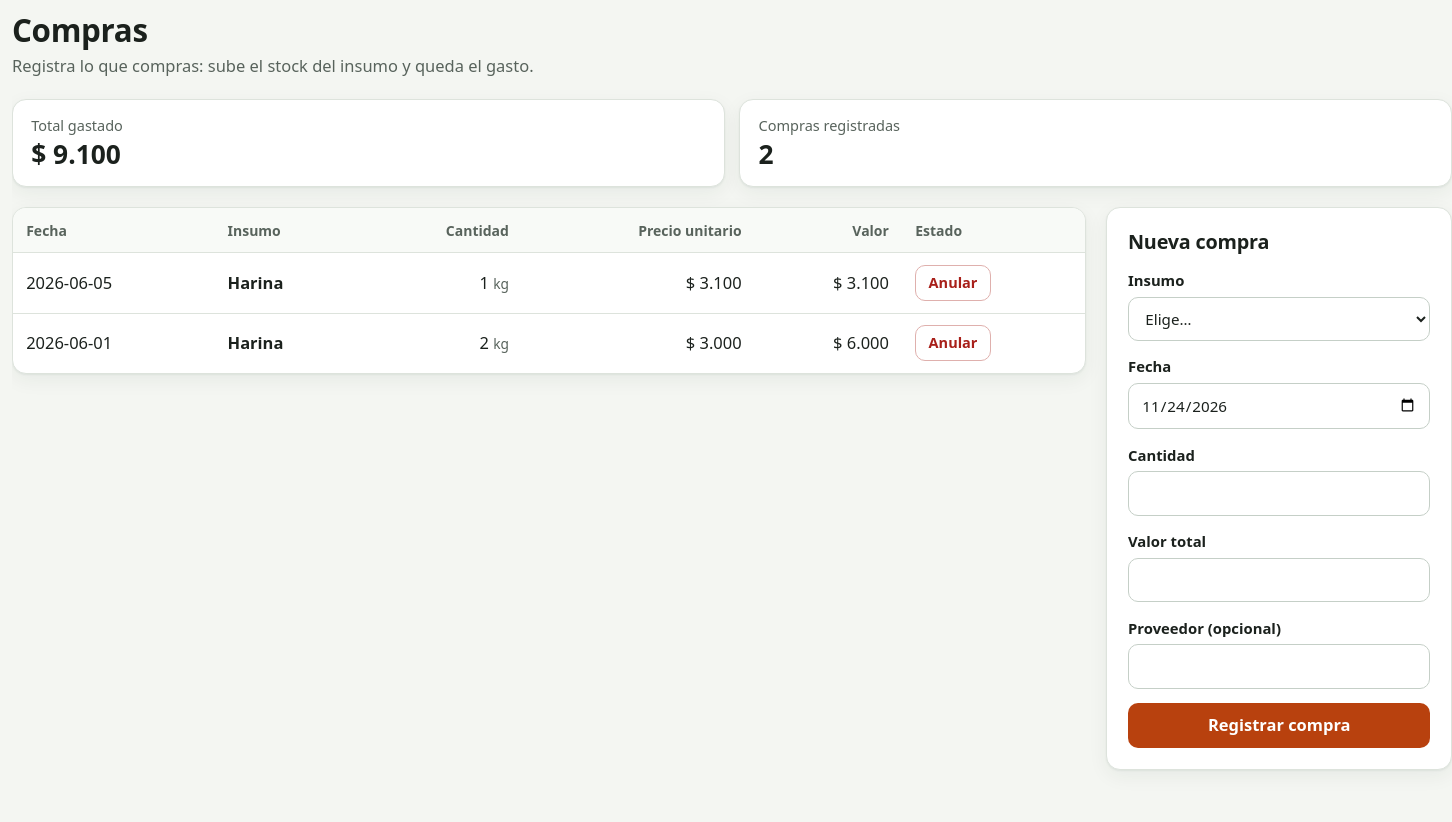
Test: HU-05 Compras (funcionales) › CA-5: si el usuario confirma, actualiza el precio
Select "Harina (kg)" in the dropdown labelled "Insumo" at [1279, 319], box [1128,297,1430,341]
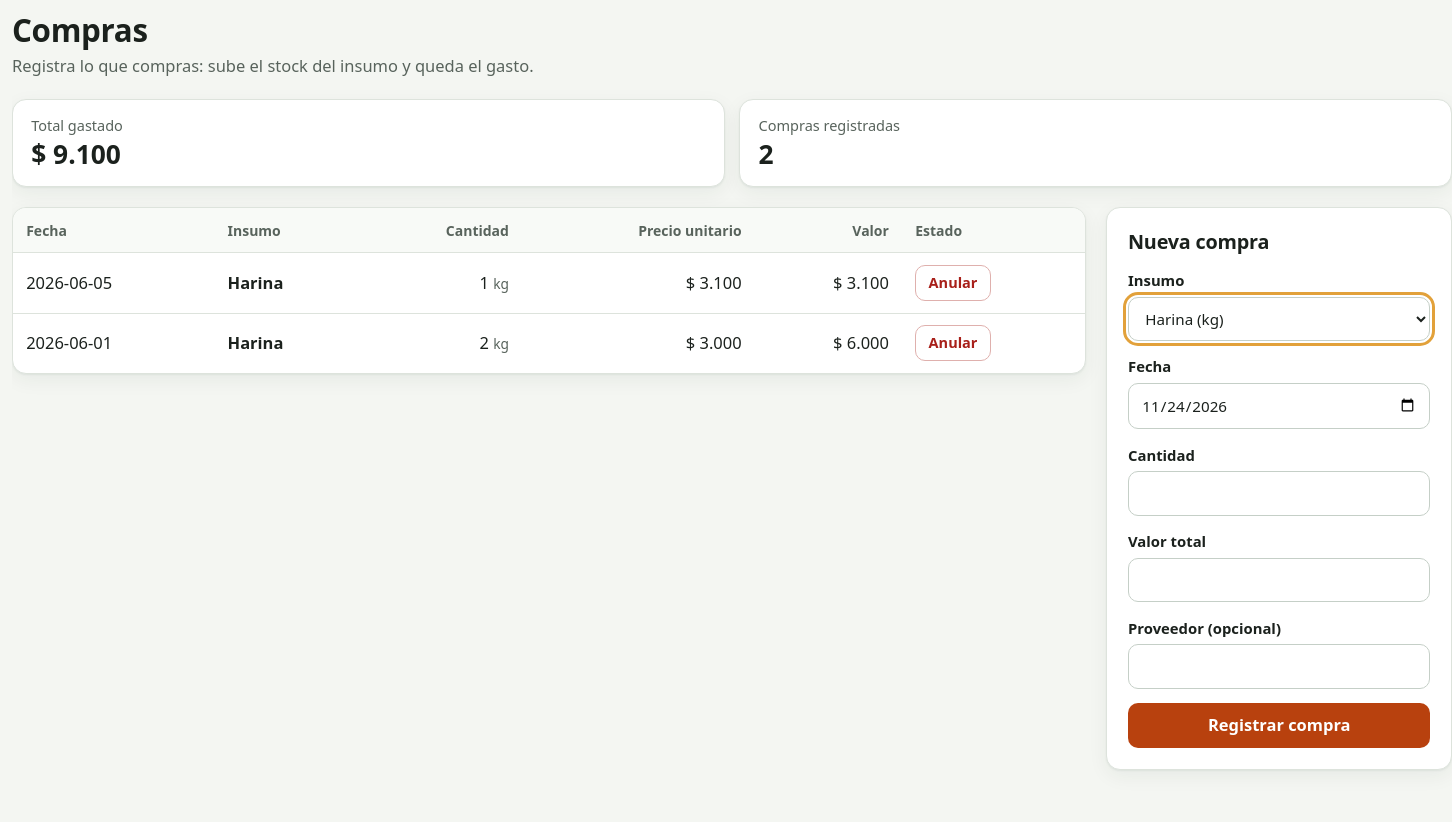
Type "10" into the number field labelled "Cantidad".
click(1279, 493); type("10")  # box [1128,471,1430,516]
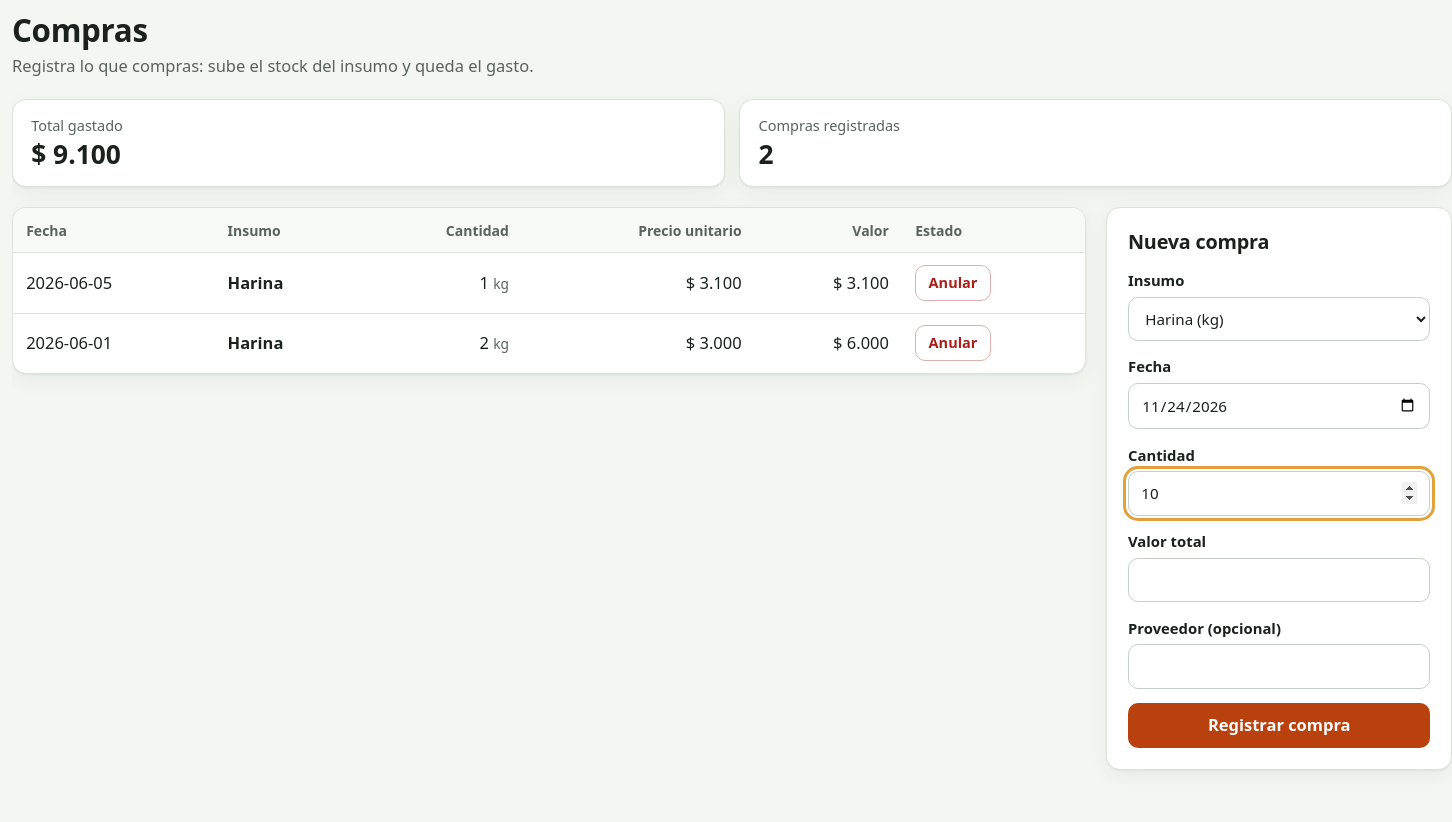
Type "32000" into the number field labelled "Valor total".
click(1279, 580); type("32000")  # box [1128,558,1430,602]
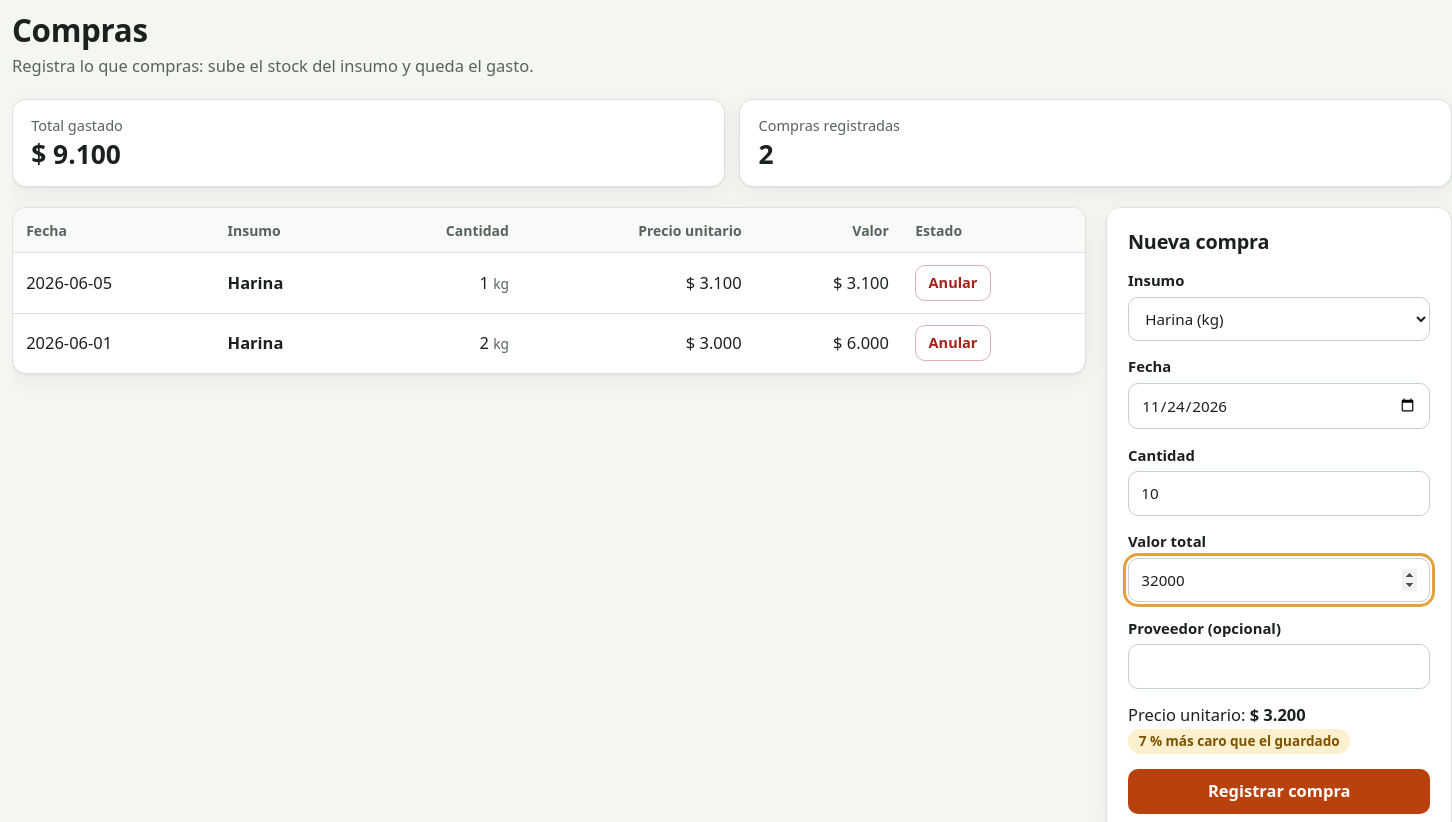
Click the button "Registrar compra".
click(1279, 791)  # box [1128,769,1430,814]
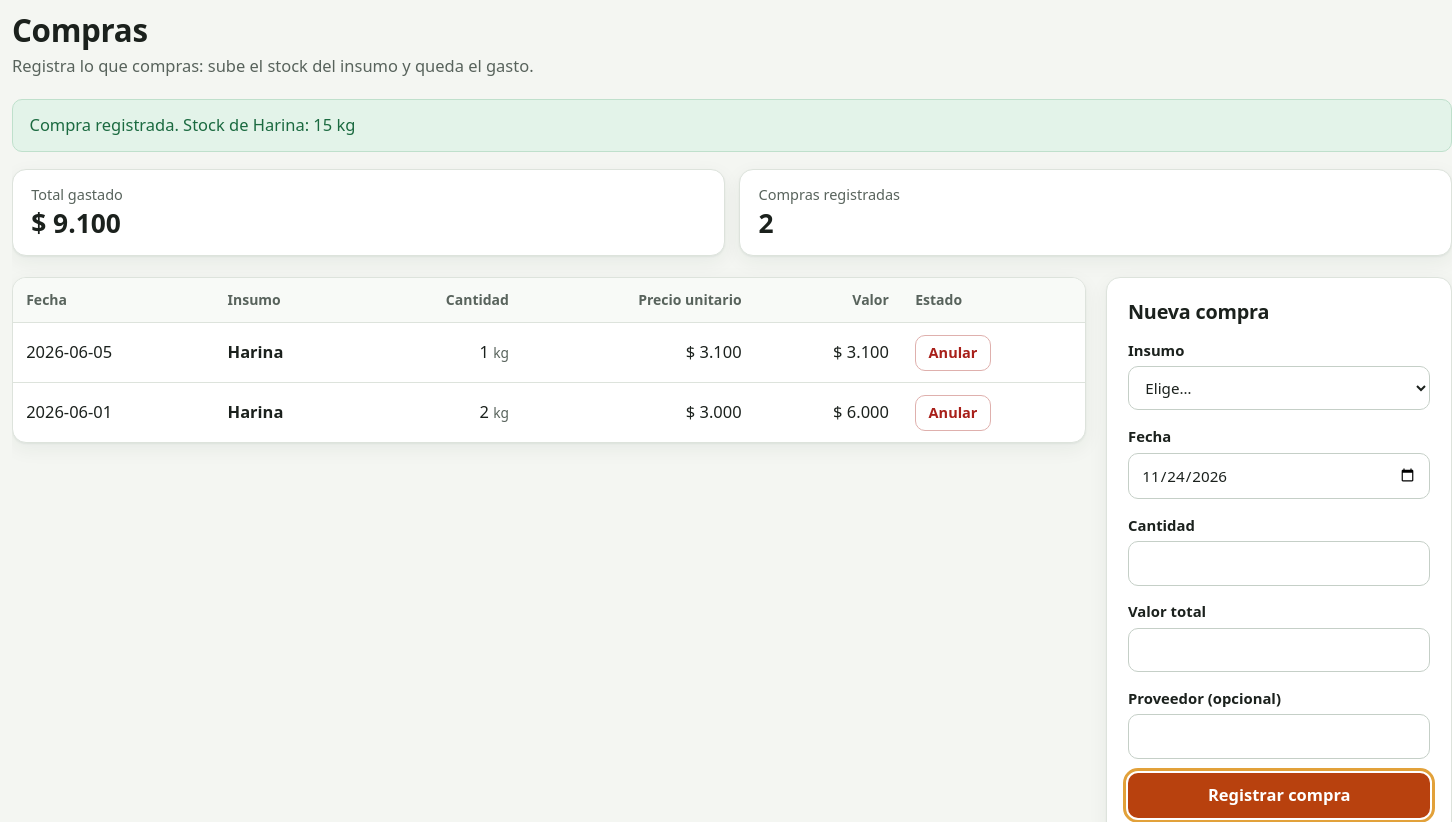
Check: the message "Compra registrada. Stock de Harina: 15 kg" is shown, box [12,99,1451,152]
